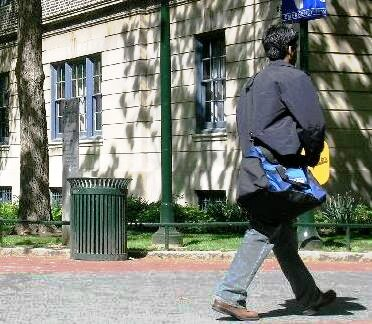person: (213, 23, 345, 314)
